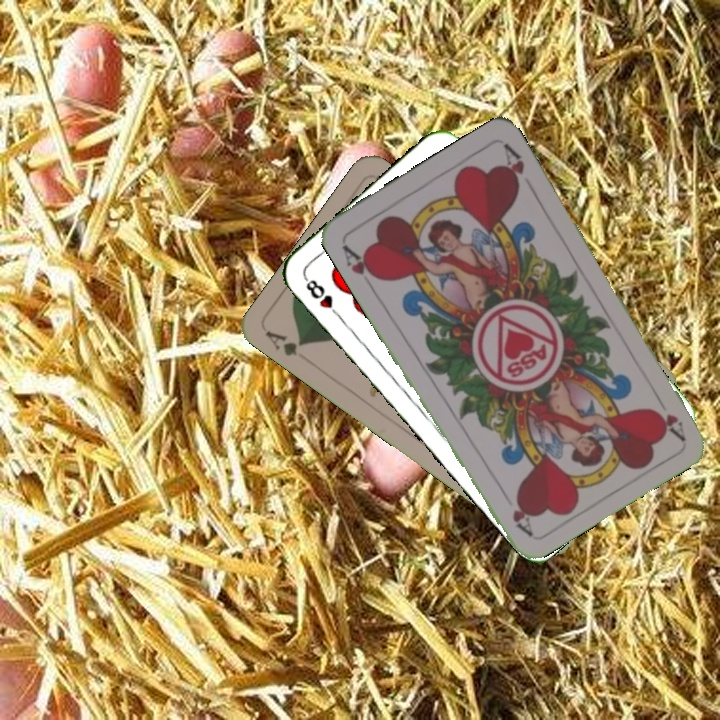GA: (261, 326, 307, 359)
H8: (300, 273, 344, 321)
HA: (338, 238, 384, 292), (649, 388, 688, 442)
